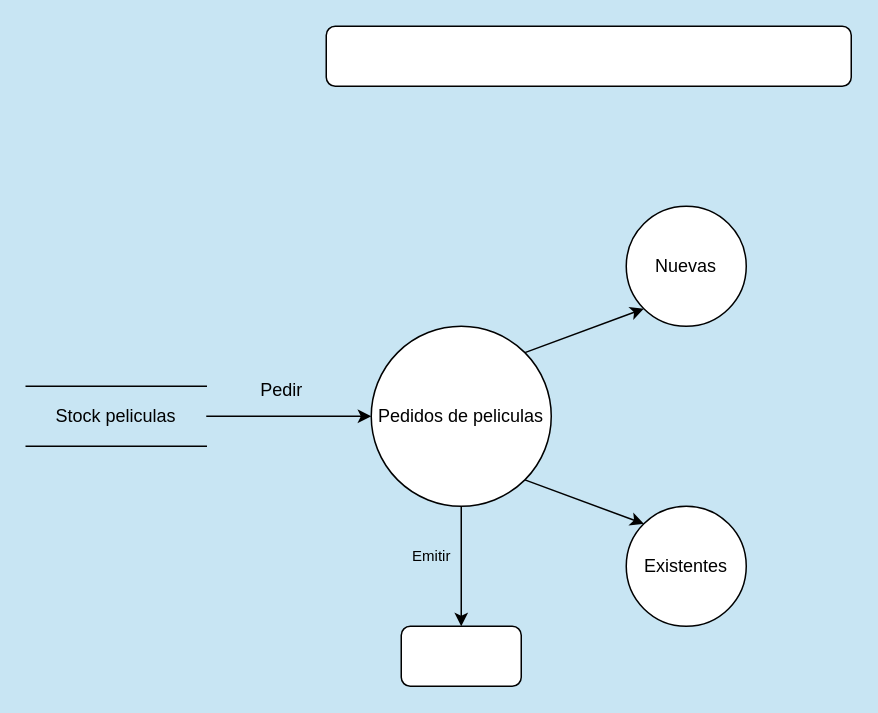
Some shapes in this 878 by 713 pixel diagram are drawn without their labels. The centre of each missing label's shape, as x and y in pixels:
"Diagrama 4: Proveedores" belongs at (588,55).
"Factura" belongs at (460,655).
